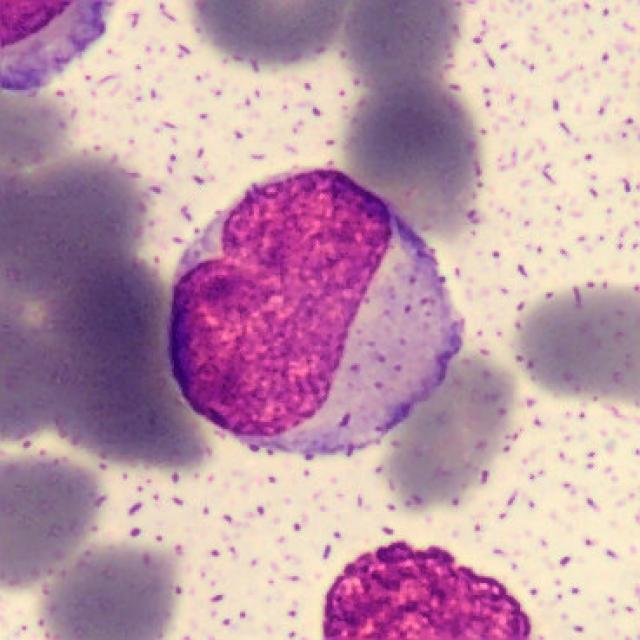Mieloblasto: (167, 170, 464, 457)
